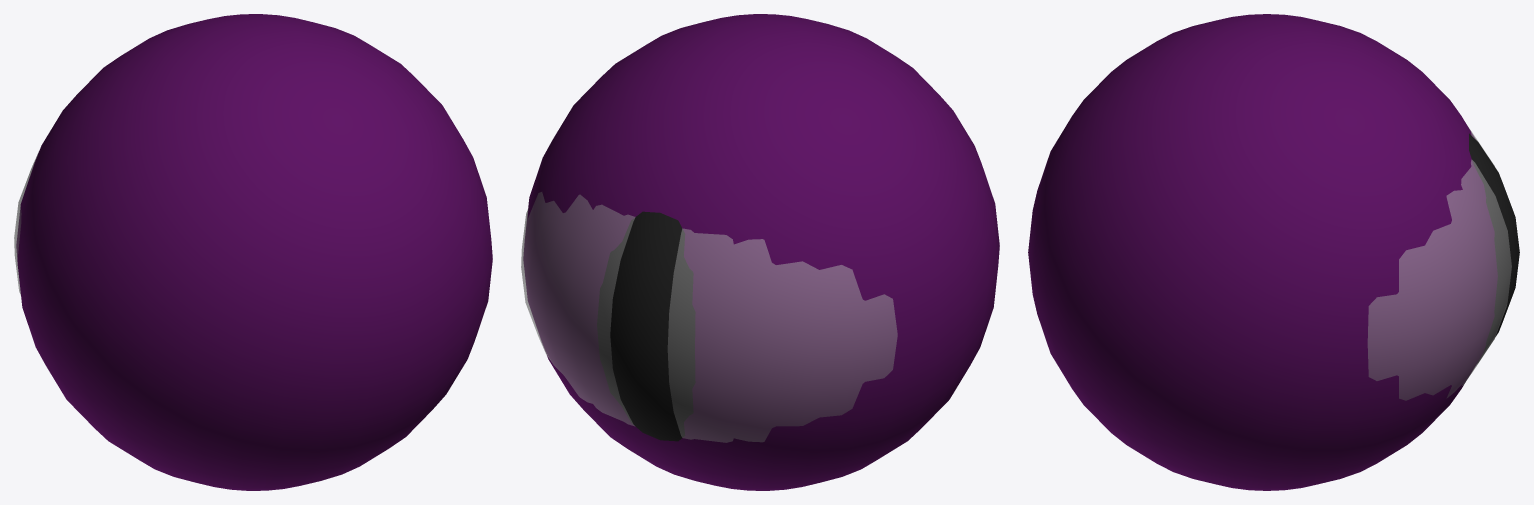
Rendered from StaringGyro.obj.
3 views of the same model, side by side, from view 1: azimuth 30°, elevation 25°; view 2: azimuth 150°, elevation 25°; view 3: azimuth 270°, elevation 25° (orthographic).
Visible parts, largest first — view 1: Base; view 2: Base, Decor, Decor2; view 3: Base, Decor, Decor2.
Boxes of the visible parts, <box> form: Base: <box>16,14,492,490</box>; Base: <box>523,14,999,490</box>; Decor: <box>521,192,897,442</box>; Decor2: <box>597,211,695,441</box>; Base: <box>1028,14,1497,490</box>; Decor: <box>1367,126,1511,400</box>; Decor2: <box>1469,133,1519,361</box>.
Bounding box in the file's own units: 0.75 × 0.75 × 0.7725.
